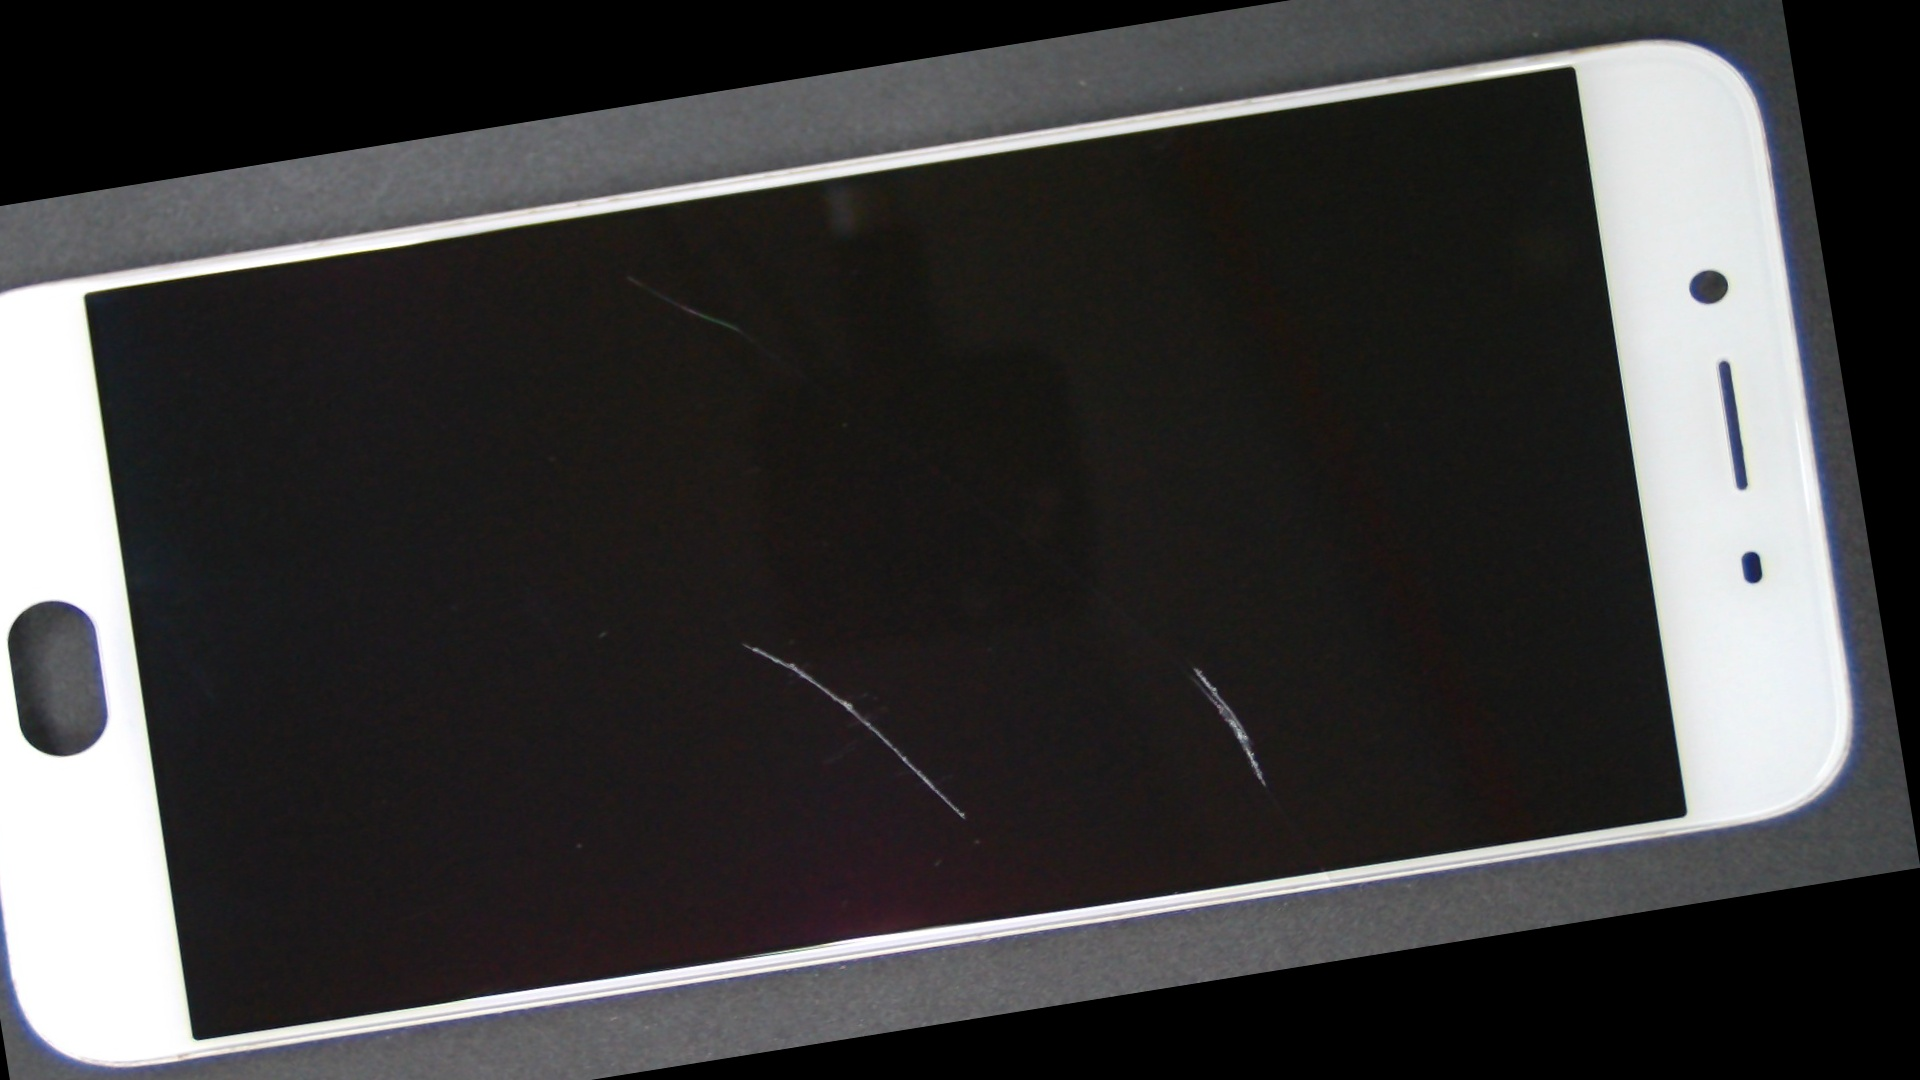oil: (535, 252, 1854, 1073), (310, 309, 1179, 977), (237, 124, 1019, 434)
